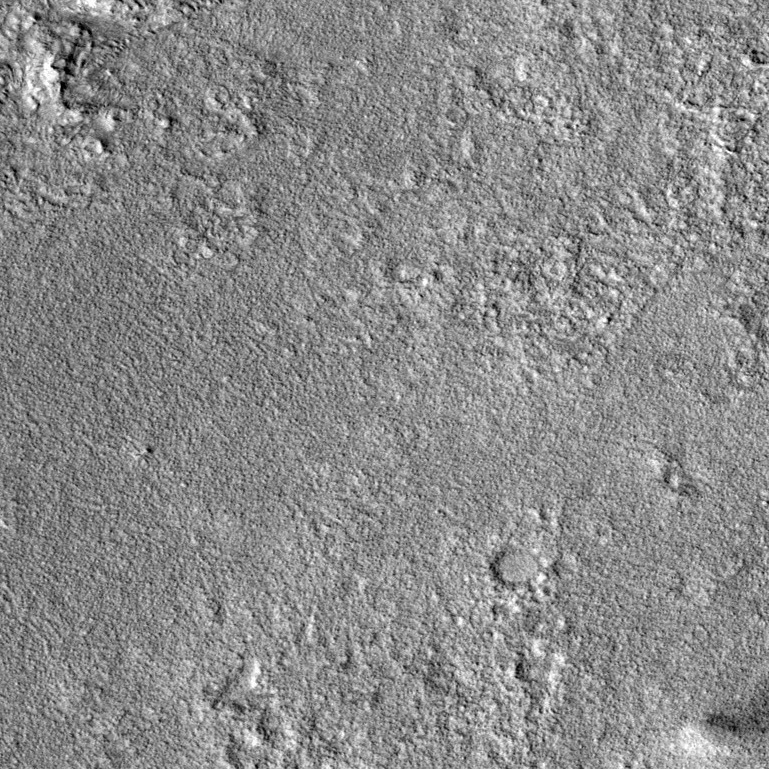dust_devil: (670, 709, 769, 761)
